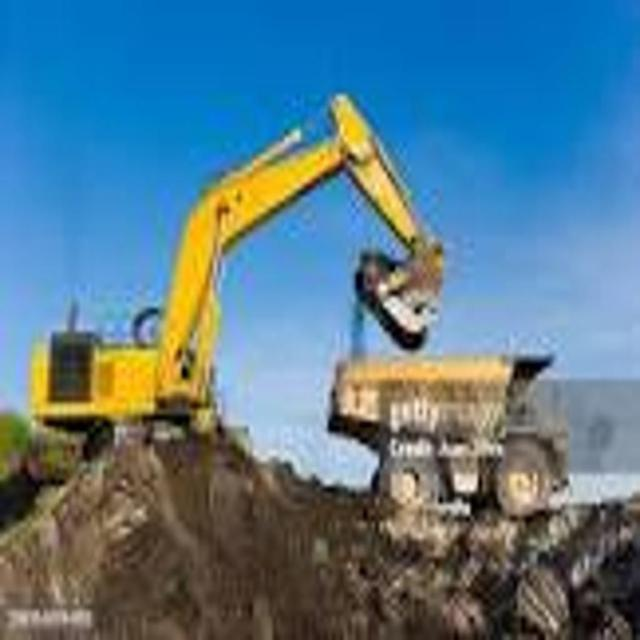dump_truck: (326, 341, 582, 518)
